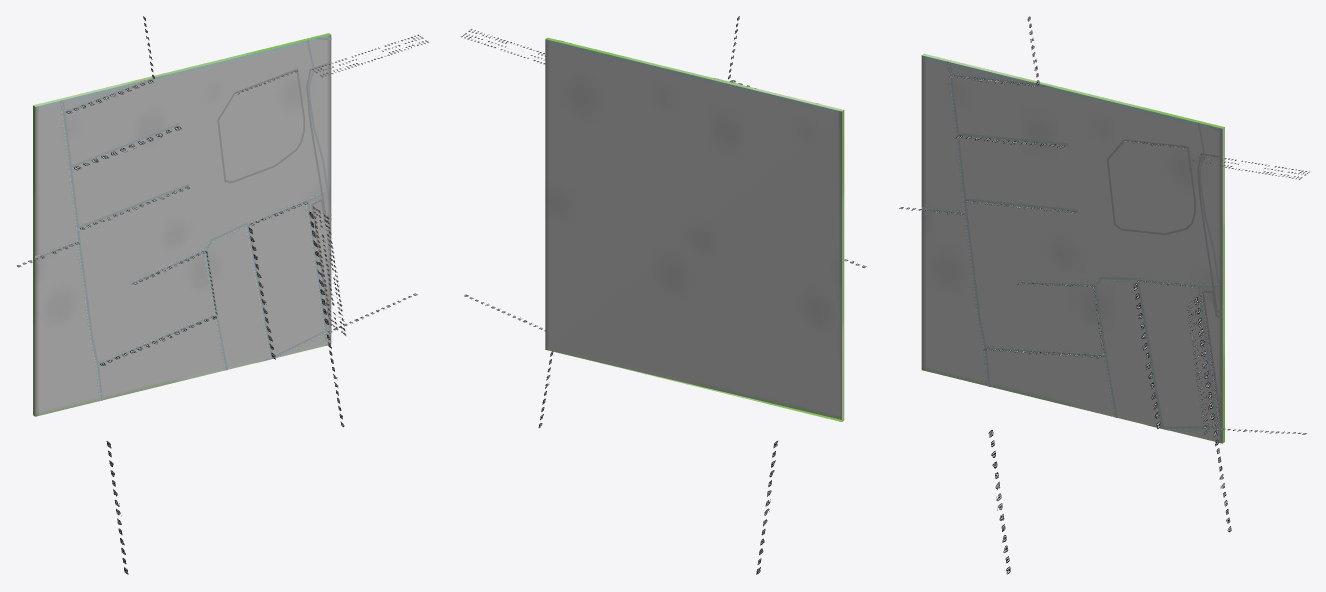
3 renders of one model, left to right at view 1: azimuth 30°, elevation 25°; view 2: azimuth 150°, elevation 25°; view 3: azimuth 330°, elevation 25°, orthographic.
Visible parts, largest first — view 1: POLYGON, POLYLINE, FONT; view 2: POLYGON, FONT; view 3: POLYGON, POLYLINE, FONT.
Boxes of the visible parts, x1,y1,x2,y2 form: POLYGON: (33, 33, 331, 416); POLYLINE: (35, 37, 331, 401); FONT: (17, 16, 428, 574); POLYGON: (545, 37, 844, 421); FONT: (461, 16, 866, 574); POLYGON: (921, 53, 1224, 443); POLYLINE: (921, 61, 1222, 443); FONT: (899, 16, 1310, 574).
Bounding box in the file's own units: 835 × 1095 × 68.17.
